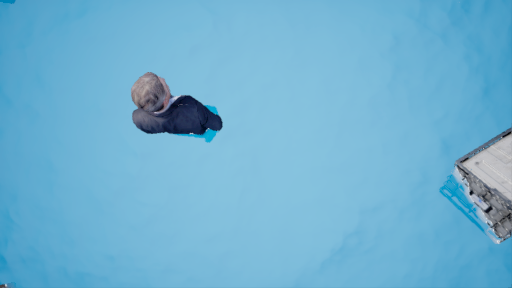person: (132, 69, 221, 146)
